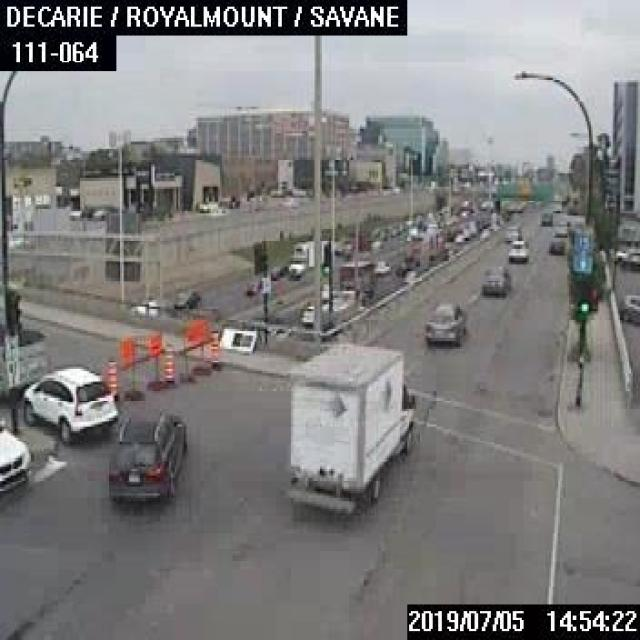construction: (178, 318, 208, 380), (120, 336, 142, 398), (144, 331, 162, 387), (209, 328, 222, 366), (161, 344, 174, 382), (105, 357, 117, 395)
vehicle: (284, 340, 424, 518), (104, 409, 191, 507), (19, 361, 116, 442), (0, 411, 31, 502), (422, 296, 467, 346), (284, 235, 332, 276), (478, 264, 509, 296), (169, 285, 198, 311), (616, 290, 638, 324), (615, 247, 638, 270), (507, 237, 527, 260), (548, 231, 565, 253), (371, 256, 391, 274), (504, 224, 521, 239), (538, 210, 552, 226)
